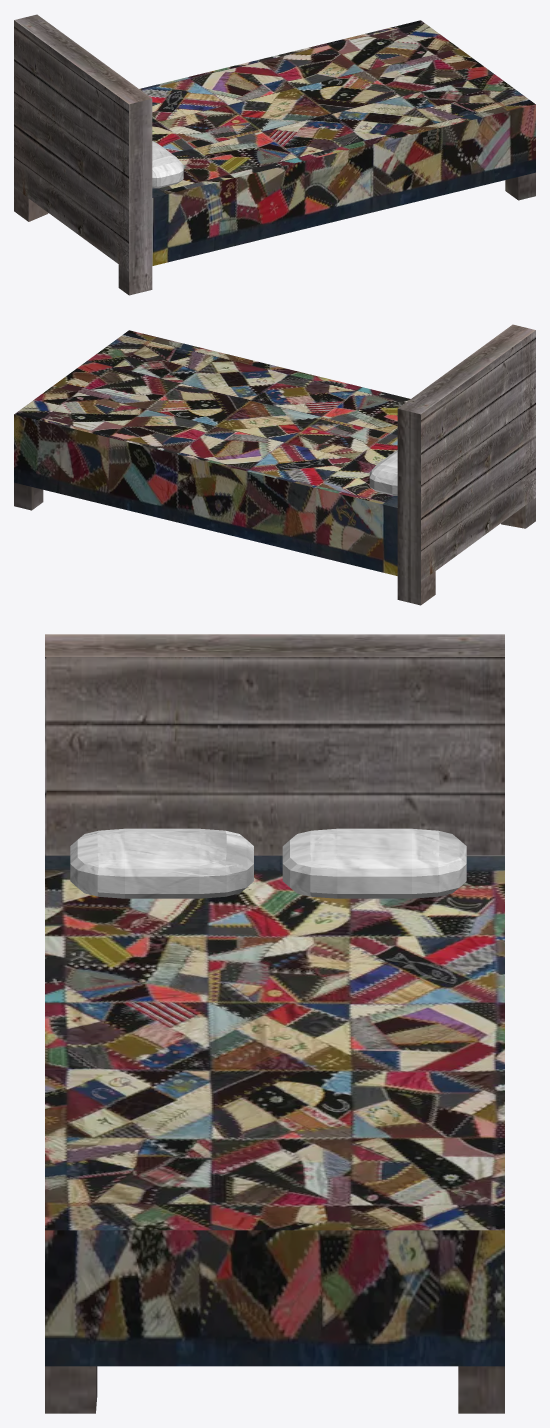
File: wooden bed.glb
3 views of the same model, one above another, from view 1: azimuth 30°, elevation 25°; view 2: azimuth 150°, elevation 25°; view 3: azimuth 270°, elevation 25° (orthographic). The views are drawn at different scales.
Parts seen in each view (by area): view 1: Cube, Cube.001; view 2: Cube, Cube.002; view 3: Cube, Cube.002, Cube.001.
Part boxes in pixels (x1,y1,x2,y2): Cube: [14, 14, 535, 295]; Cube.001: [152, 141, 183, 188]; Cube: [14, 324, 535, 605]; Cube.002: [369, 450, 397, 495]; Cube: [45, 634, 504, 1413]; Cube.002: [282, 828, 466, 898]; Cube.001: [70, 828, 253, 898].
Size of what is drawn, in the model's own units: 5.58 by 2.51 by 2.73.
4 materials, 4 textured.
